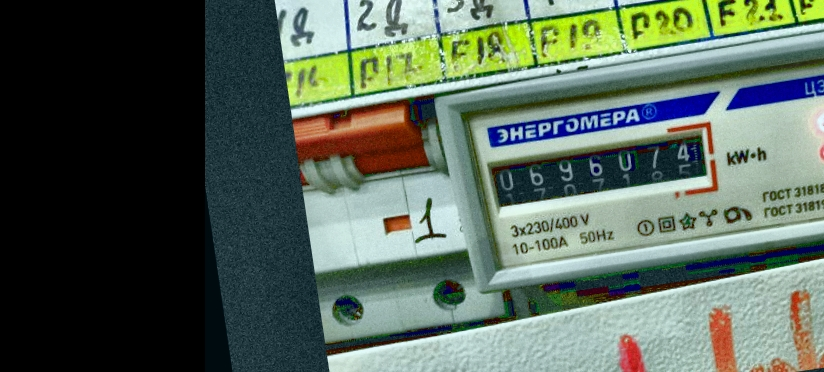0: (494, 164, 517, 191), (615, 145, 634, 172)
4: (672, 137, 691, 161)
5: (677, 161, 695, 178)
6: (586, 149, 607, 177), (526, 160, 546, 186)
7: (645, 142, 665, 169)
9: (556, 155, 575, 183)
screen: (476, 116, 723, 219)
